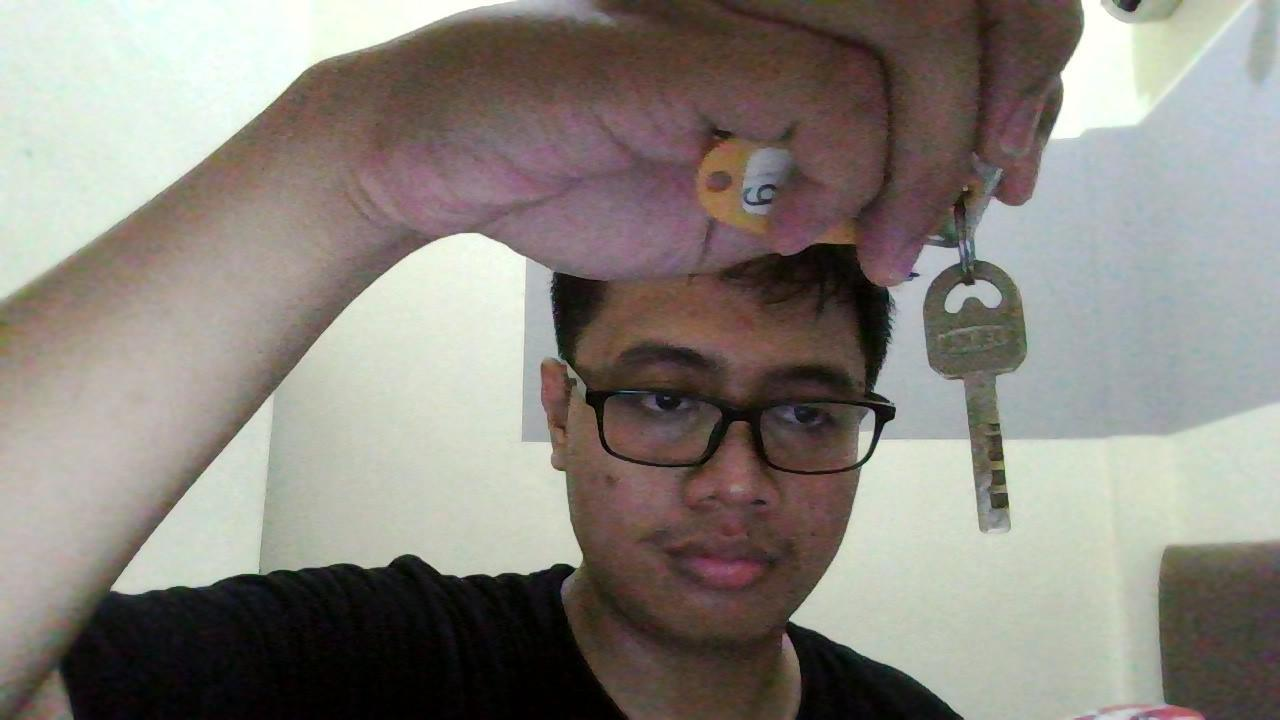keys: (923, 255, 1045, 545)
